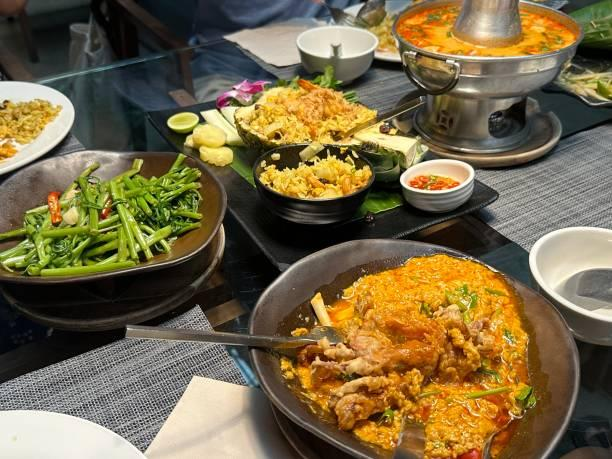Braised Crucian Carp: (244, 239, 583, 459), (156, 78, 495, 230)
